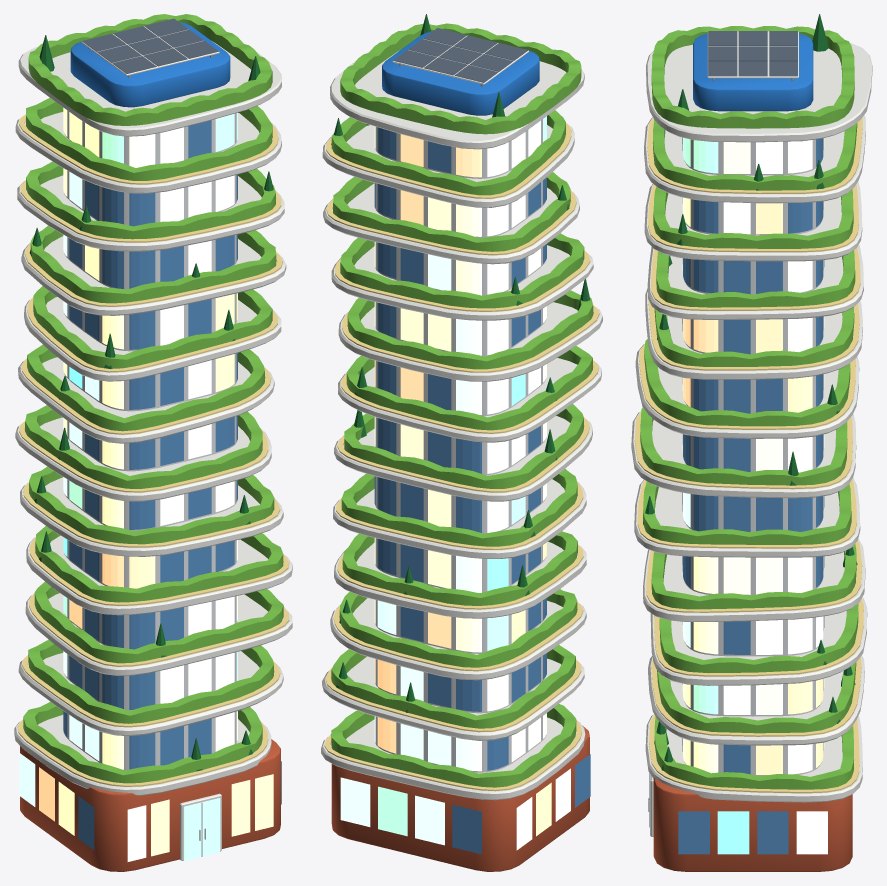
The model's file is torre_lajes_arredondadas.glb.
3 renders of one model, left to right at view 1: azimuth 30°, elevation 25°; view 2: azimuth 150°, elevation 25°; view 3: azimuth 270°, elevation 25°, orthographic.
Parts seen in each view (by area): view 1: torre_lajes_arredondadas; view 2: torre_lajes_arredondadas; view 3: torre_lajes_arredondadas.
Part boxes in pixels (box(x1,y1,x2,y2)): torre_lajes_arredondadas: box(14, 14, 292, 871); torre_lajes_arredondadas: box(321, 14, 602, 871); torre_lajes_arredondadas: box(631, 14, 872, 871).
Size of the model in its own units: 12.1 by 41.43 by 11.63.
Materials: 7 (1 with a texture image).
